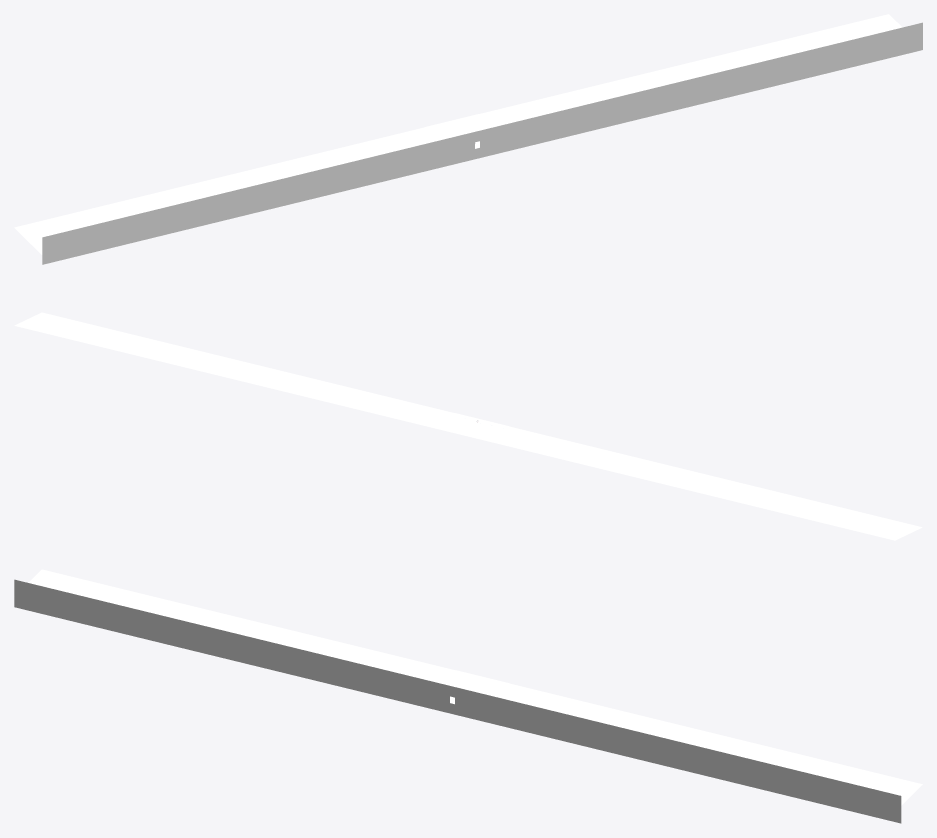
The model's file is boat_and_whale_old.gltf.
3 renders of one model, top to bottom at view 1: azimuth 30°, elevation 25°; view 2: azimuth 150°, elevation 25°; view 3: azimuth 330°, elevation 25°, orthographic.
Parts seen in each view (by area): view 1: occlude_object, sea-still, sea; view 2: sea-still, sea; view 3: occlude_object, sea-still, sea.
Boxes of the visible parts, x1,y1,x2,y2 form: occlude_object: (42, 22, 922, 264); sea-still: (14, 14, 902, 254); sea: (425, 114, 492, 148); sea-still: (14, 312, 922, 540); sea: (427, 413, 508, 439); occlude_object: (14, 579, 901, 823); sea-still: (28, 569, 922, 805); sea: (442, 670, 509, 703).
Bounding box in the file's own units: 90.64 × 2.7 × 4.96.
6 materials, 2 textured.
